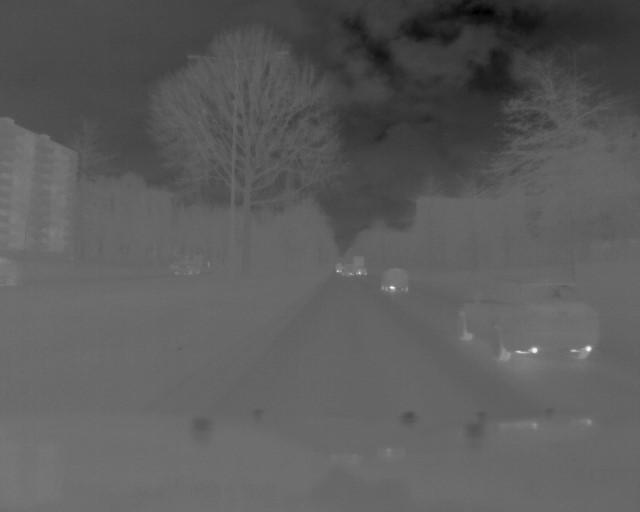car: (455, 285, 605, 368), (377, 266, 414, 293), (167, 261, 202, 278), (355, 266, 370, 278)
